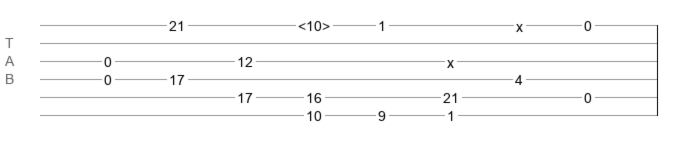0: (104, 54, 112, 64), (104, 72, 112, 82), (584, 18, 592, 28), (584, 90, 592, 100)
1: (378, 18, 386, 28), (447, 108, 455, 118)
10: (306, 108, 322, 118)
12: (237, 54, 253, 64)
16: (306, 90, 322, 100)
17: (169, 72, 185, 82), (237, 90, 253, 100)
21: (169, 18, 185, 28), (443, 90, 459, 100)
4: (515, 72, 523, 82)
9: (378, 108, 386, 118)
harmonic: (298, 18, 330, 28)
x: (447, 55, 454, 63), (516, 19, 523, 27)
